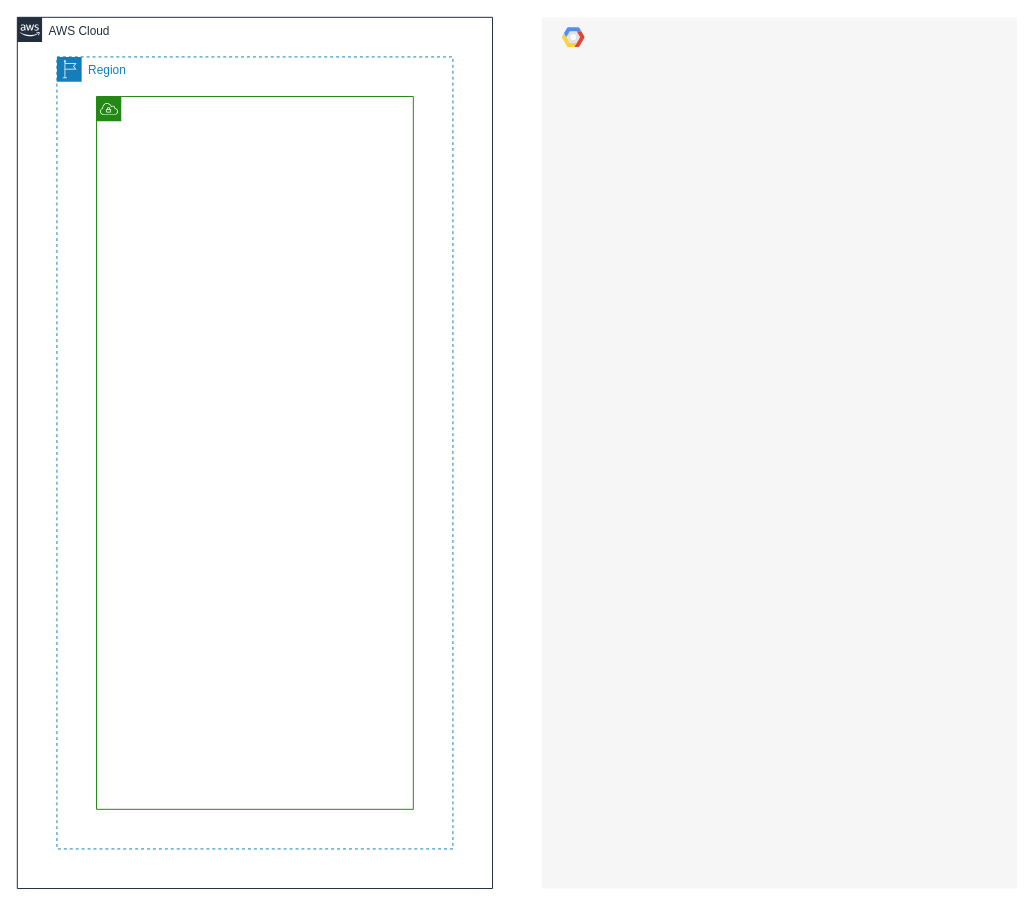
Some shapes in this 1035 by 906 pixel diagram are drawn without their labels. Each missing label, with the centre of its shape:
"Google Cloud Platform" belongs at point (779, 452).
"VPC" belongs at point (254, 452).
